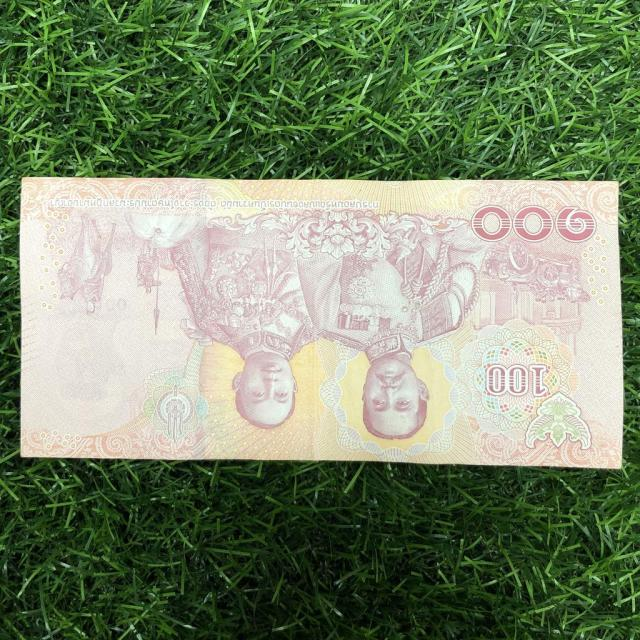THAI100: (21, 178, 622, 468)
